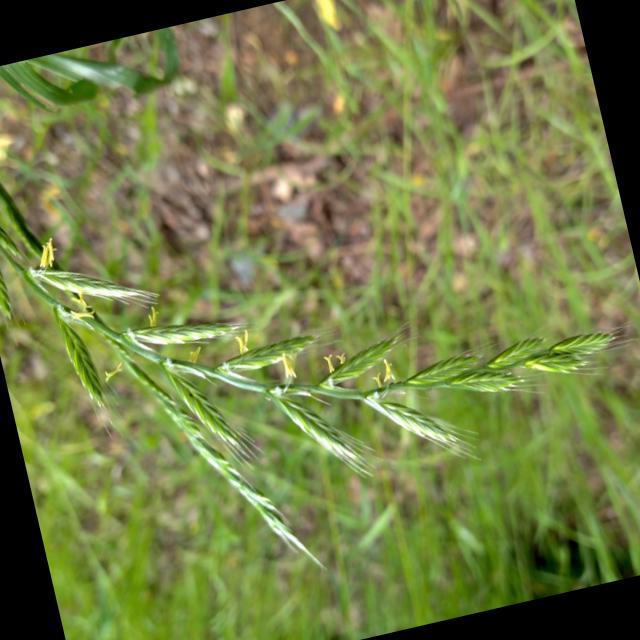Lolium: (0, 54, 640, 632)
